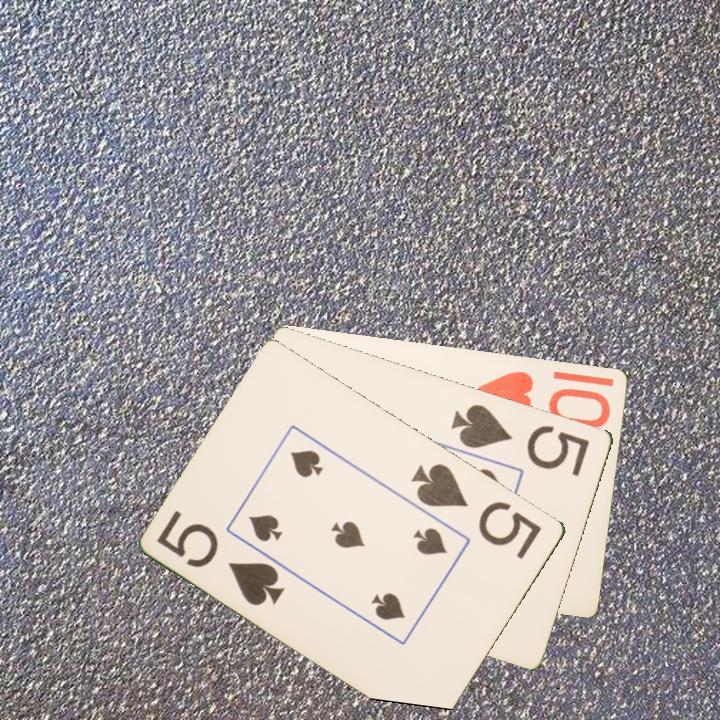10h: (474, 367, 615, 428)
5s: (408, 459, 545, 562), (154, 507, 288, 609), (448, 400, 593, 479)
